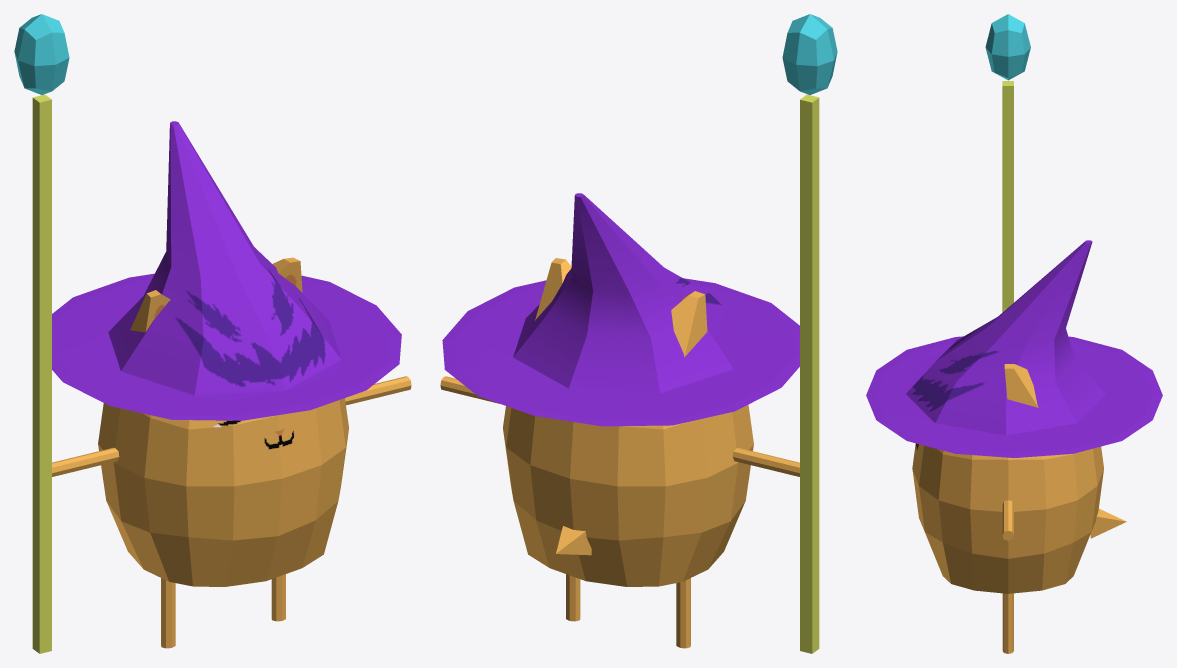
The model's file is orange-wizard.glb.
3 views of the same model, side by side, from view 1: azimuth 30°, elevation 25°; view 2: azimuth 150°, elevation 25°; view 3: azimuth 270°, elevation 25° (orthographic). The views are drawn at different scales.
Parts seen in each view (by area): view 1: WizardHat, Body, Wood, Crystal, Arms, Legs; view 2: WizardHat, Body, Wood, Crystal, Legs, Arms, Cone; view 3: WizardHat, Body, Wood, Crystal, Legs, Cone, Arms.
Part boxes in pixels (x1,y1,x2,y2): WizardHat: [52, 121, 401, 420]; Body: [98, 257, 348, 586]; Wood: [32, 94, 51, 653]; Crystal: [14, 14, 69, 94]; Arms: [52, 376, 411, 476]; Legs: [161, 574, 285, 648]; WizardHat: [442, 193, 799, 426]; Body: [503, 258, 753, 586]; Wood: [800, 94, 819, 653]; Crystal: [782, 14, 837, 94]; Legs: [566, 574, 690, 648]; Arms: [440, 376, 799, 476]; Cone: [556, 526, 591, 555]; WizardHat: [866, 240, 1162, 457]; Body: [912, 309, 1103, 593]; Wood: [1002, 81, 1013, 312]; Crystal: [985, 14, 1030, 80]; Legs: [1002, 593, 1013, 653]; Cone: [1090, 508, 1126, 538]; Arms: [1002, 500, 1013, 540].
Size of the model in its own units: 4.18 by 6.77 by 3.36.
5 materials, 3 textured.
